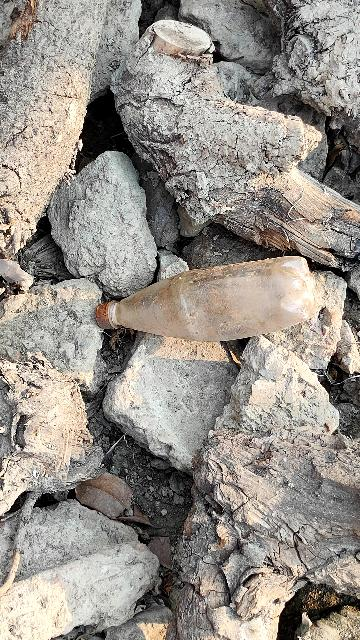bottle: (90, 250, 350, 342)
